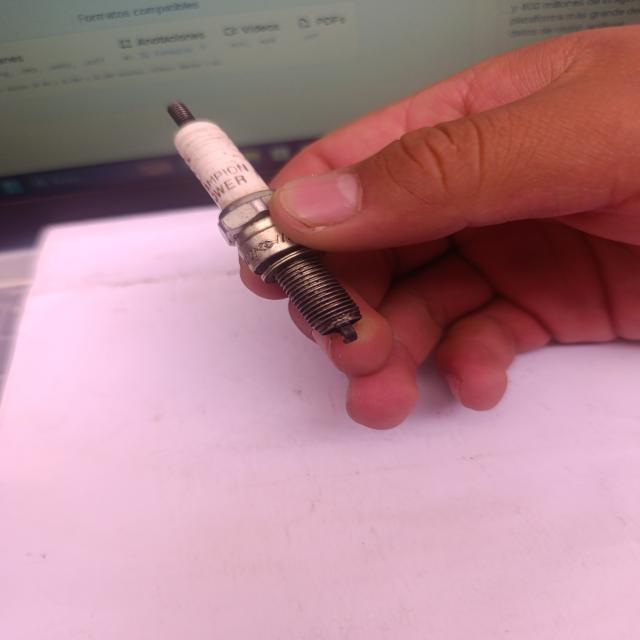bujia: (168, 103, 361, 343)
